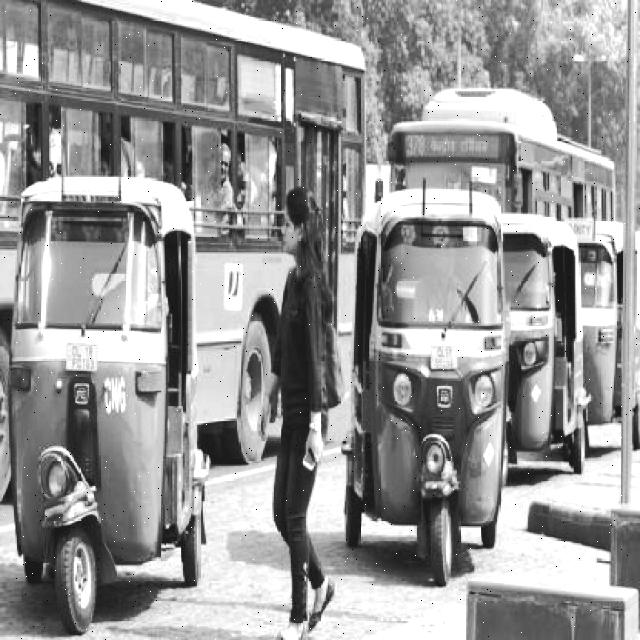Auto-Rickshaw: (8, 171, 208, 639), (344, 187, 508, 588), (492, 205, 588, 482), (566, 202, 640, 452)
